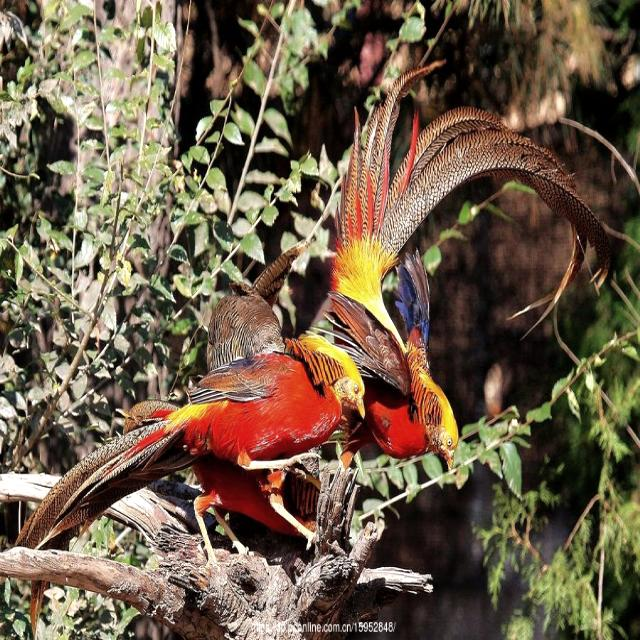Chrysolophus pictus feather: (340, 73, 609, 272), (16, 420, 191, 548)
